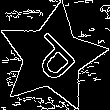P_SE: (21, 26, 83, 89)
